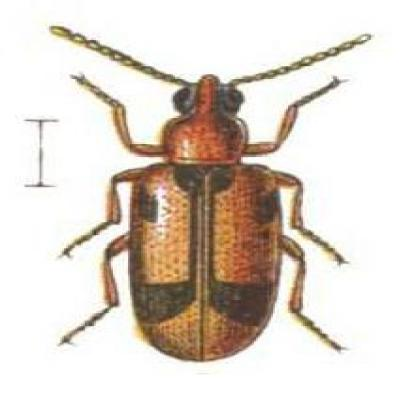beetle: (37, 23, 390, 369)
